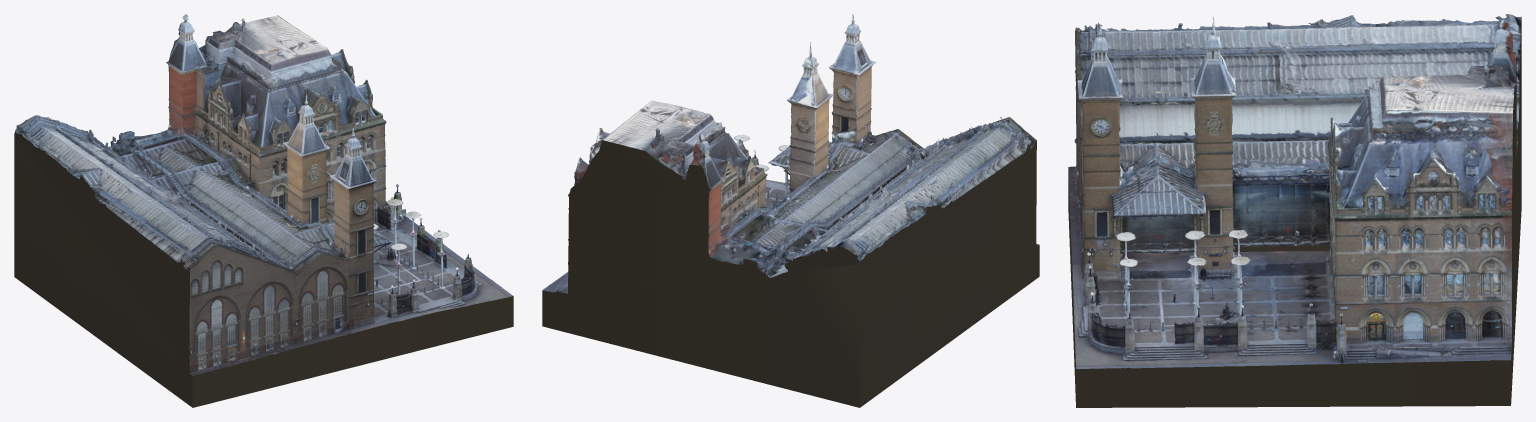
File: liverpool_street_station_south_entrance.glb
The picture shows the model from 3 angles, left to right: view 1: azimuth 30°, elevation 25°; view 2: azimuth 150°, elevation 25°; view 3: azimuth 270°, elevation 25°; orthographic projection. The views are drawn at different scales.
Visible parts, largest first — view 1: Object_4, Object_5, Object_6, Object_3, Object_7; view 2: Object_4, Object_6, Object_5; view 3: Object_4, Object_5, Object_6, Object_3.
Boxes of the visible parts, bbox=[...] form: Object_4: bbox=[14, 15, 513, 407]; Object_5: bbox=[26, 14, 509, 361]; Object_6: bbox=[16, 31, 415, 372]; Object_3: bbox=[62, 50, 479, 360]; Object_7: bbox=[277, 244, 339, 300]; Object_4: bbox=[542, 100, 1039, 407]; Object_6: bbox=[554, 14, 1012, 293]; Object_5: bbox=[649, 114, 1036, 252]; Object_4: bbox=[1068, 14, 1521, 407]; Object_5: bbox=[1070, 15, 1515, 368]; Object_6: bbox=[1068, 14, 1520, 363]; Object_3: bbox=[1077, 15, 1511, 357].
Size of the model in its own units: 40.02 by 27.62 by 38.24.
1 material, 1 textured.
